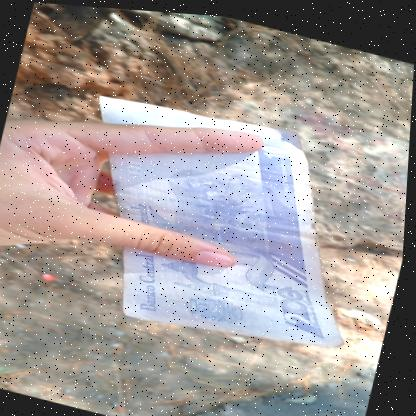ten-back-vef: (51, 78, 391, 364)
